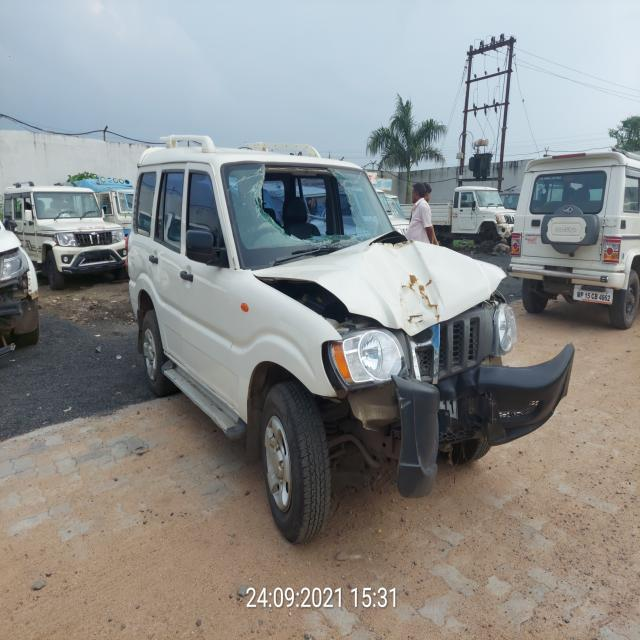damage: (397, 342, 574, 500), (263, 267, 505, 335), (238, 162, 371, 255), (360, 231, 414, 264)
